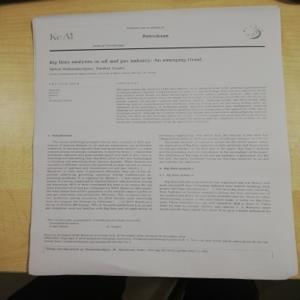image: (240, 20, 265, 42)
text: (45, 138, 156, 211), (115, 86, 269, 121), (159, 178, 274, 218), (41, 230, 272, 247), (159, 133, 272, 166), (45, 53, 202, 66), (43, 212, 144, 230), (44, 79, 85, 102)
